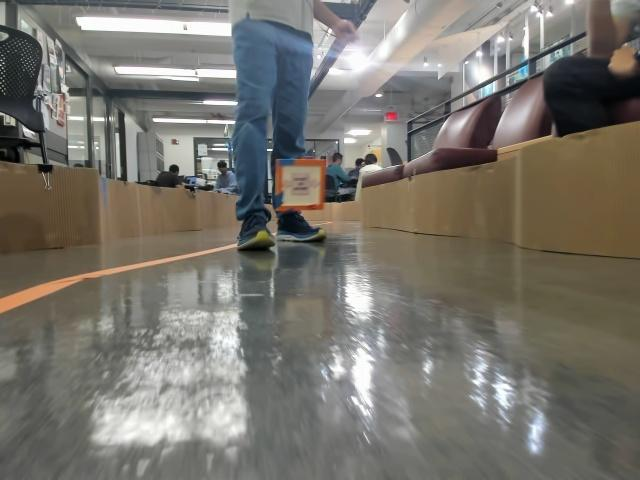Do Not Go Around: (283, 172, 319, 195)
